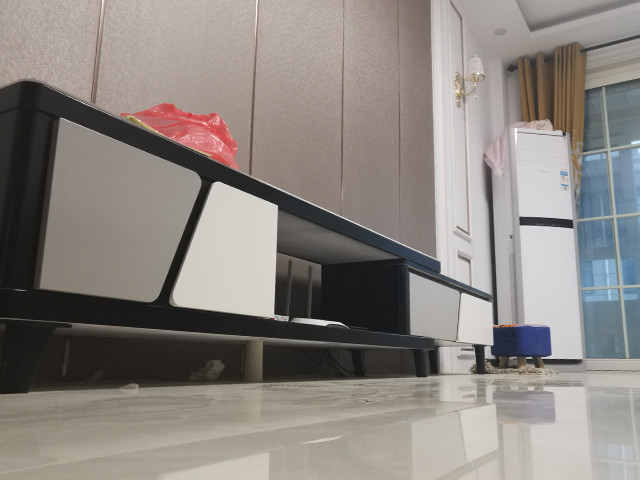cabinet: (1, 75, 500, 397)
stool: (492, 323, 553, 371)
